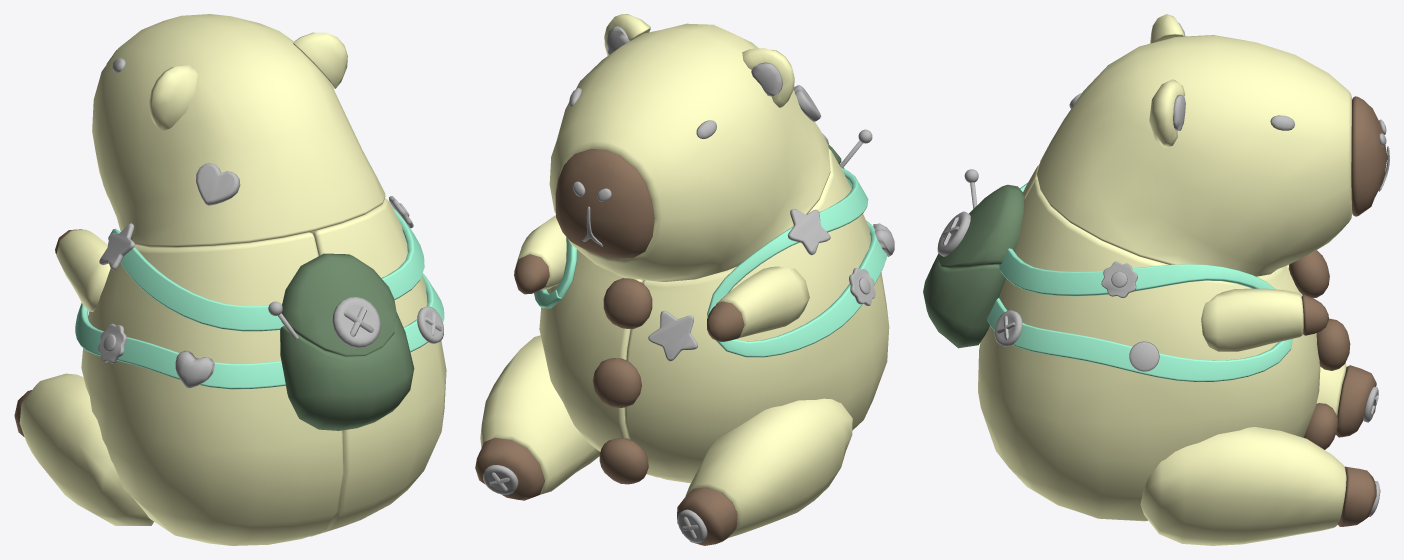
File: CapybaraConform.fbx
3 renders of one model, left to right at view 1: azimuth 30°, elevation 25°; view 2: azimuth 150°, elevation 25°; view 3: azimuth 270°, elevation 25°, orthographic. The views are drawn at different scales.
Parts seen in each view (by area): view 1: S_CapybaraConform, M_CapybaraConform, D_CapybaraConform_2, D_CapybaraConform_6, D_CapybaraConform_11, D_CapybaraConform_4, D_CapybaraConform_7, D_CapybaraConform_14; view 2: S_CapybaraConform, M_CapybaraConform, D_CapybaraConform_3, D_CapybaraConform_4, D_CapybaraConform_8, D_CapybaraConform_7, D_CapybaraConform_13, D_CapybaraConform_9; view 3: S_CapybaraConform, M_CapybaraConform, D_CapybaraConform_10, D_CapybaraConform_2, D_CapybaraConform_14, D_CapybaraConform_15.
Boxes of the visible parts, left/top/right/bottom form: S_CapybaraConform: left=55, top=14, right=446, bottom=545; M_CapybaraConform: left=14, top=50, right=414, bottom=525; D_CapybaraConform_2: left=332, top=297, right=380, bottom=347; D_CapybaraConform_6: left=196, top=163, right=240, bottom=205; D_CapybaraConform_11: left=175, top=350, right=214, bottom=388; D_CapybaraConform_4: left=99, top=223, right=134, bottom=269; D_CapybaraConform_7: left=98, top=323, right=126, bottom=363; D_CapybaraConform_14: left=417, top=306, right=443, bottom=343; S_CapybaraConform: left=514, top=14, right=889, bottom=483; M_CapybaraConform: left=475, top=143, right=852, bottom=545; D_CapybaraConform_3: left=648, top=310, right=697, bottom=361; D_CapybaraConform_4: left=787, top=209, right=830, bottom=255; D_CapybaraConform_8: left=483, top=465, right=518, bottom=494; D_CapybaraConform_7: left=849, top=268, right=875, bottom=305; D_CapybaraConform_13: left=751, top=62, right=782, bottom=96; D_CapybaraConform_9: left=677, top=509, right=707, bottom=543; S_CapybaraConform: left=978, top=14, right=1352, bottom=521; M_CapybaraConform: left=923, top=96, right=1387, bottom=545; D_CapybaraConform_10: left=1101, top=261, right=1137, bottom=297; D_CapybaraConform_2: left=937, top=211, right=970, bottom=256; D_CapybaraConform_14: left=994, top=310, right=1022, bottom=346; D_CapybaraConform_15: left=1129, top=341, right=1159, bottom=371.
Bounding box in the file's own units: 453 × 610 × 576.
